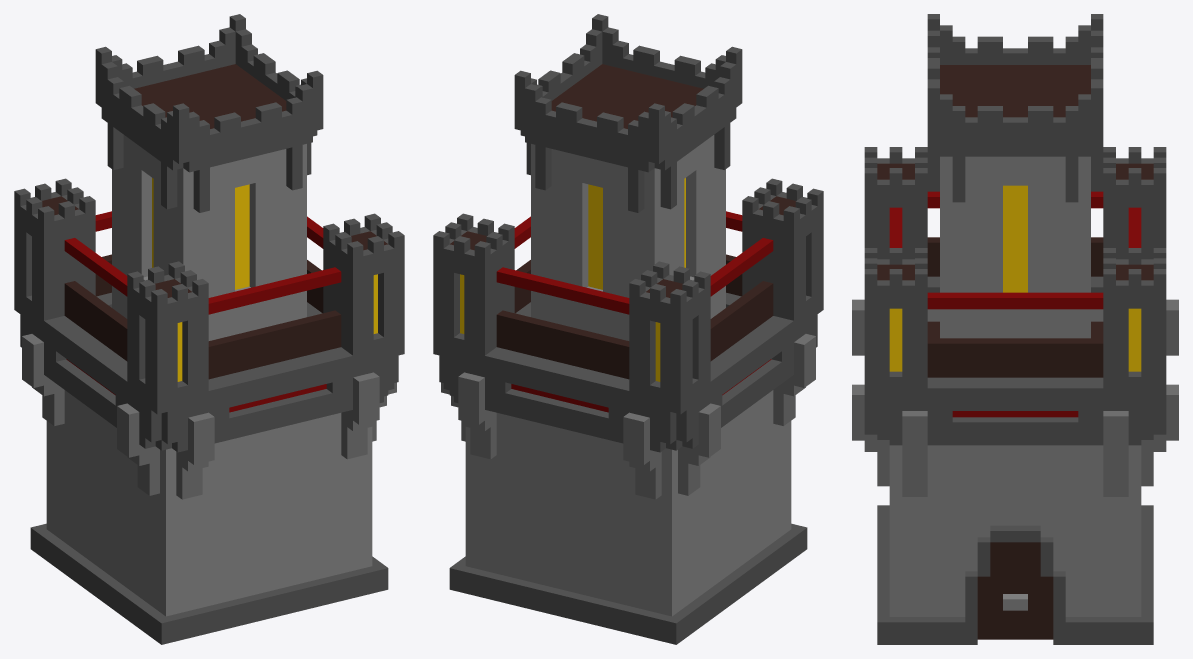
The model's file is Tower.obj.
3 renders of one model, left to right at view 1: azimuth 30°, elevation 25°; view 2: azimuth 150°, elevation 25°; view 3: azimuth 270°, elevation 25°, orthographic. The views are drawn at different scales.
Bounding box in the file's own units: 26 × 47 × 26.
